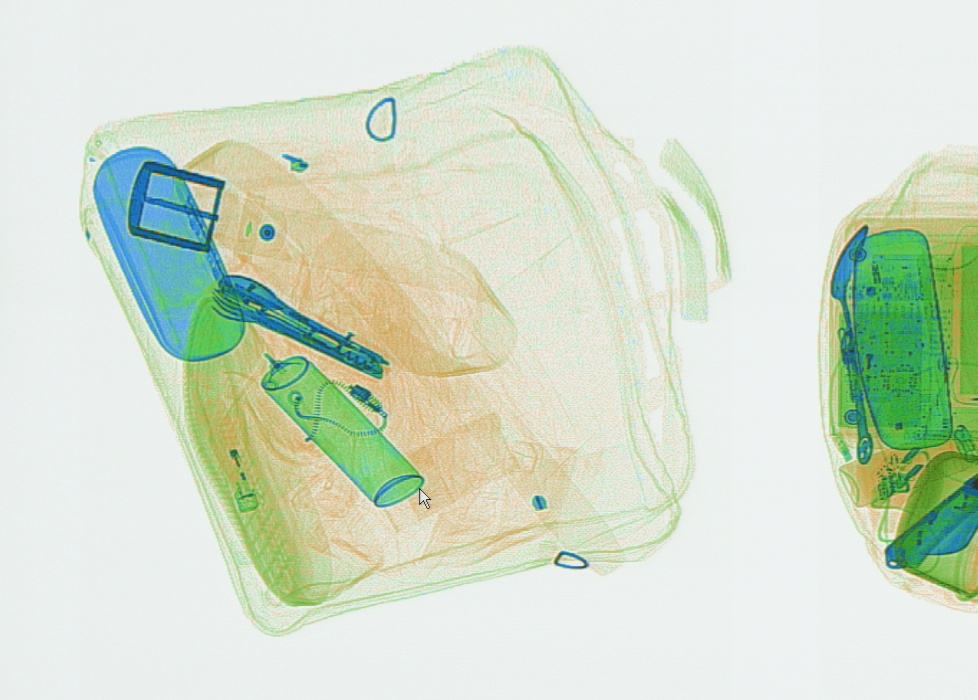knife: (206, 272, 395, 383), (882, 465, 976, 573)
lighter: (199, 394, 260, 513), (848, 313, 882, 400)
pressure: (259, 350, 425, 509), (838, 425, 976, 505)
